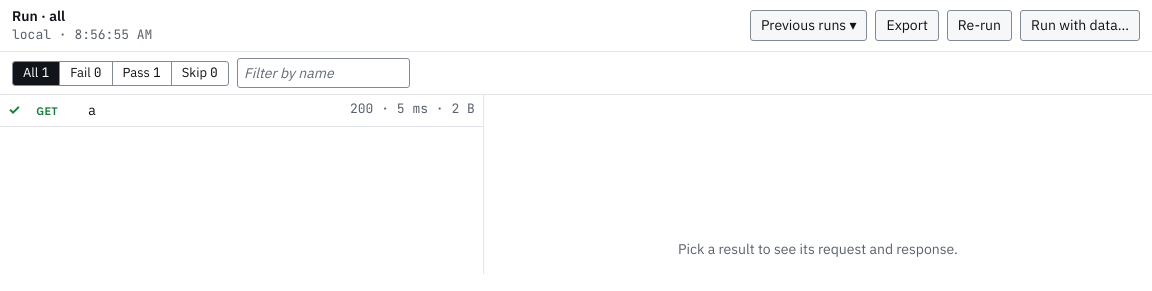
Test: Export › uses the native save dialog in the desktop app
Click the button "Export".
click(907, 26)  # box [876,10,939,41]
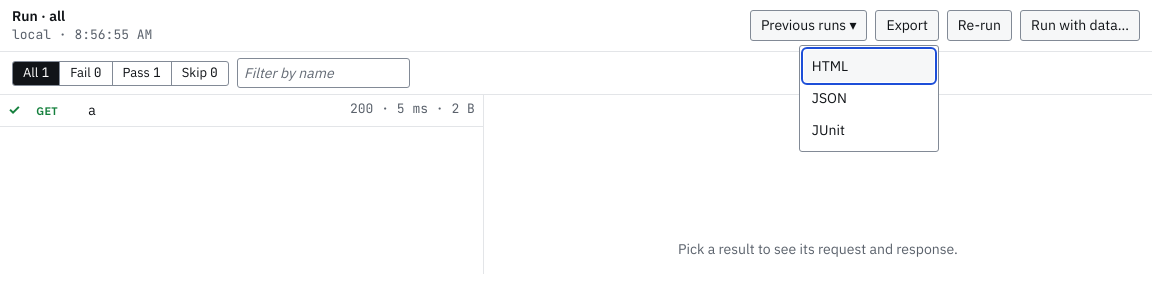
Click the menu item "HTML".
click(869, 66)  # box [804,50,934,82]
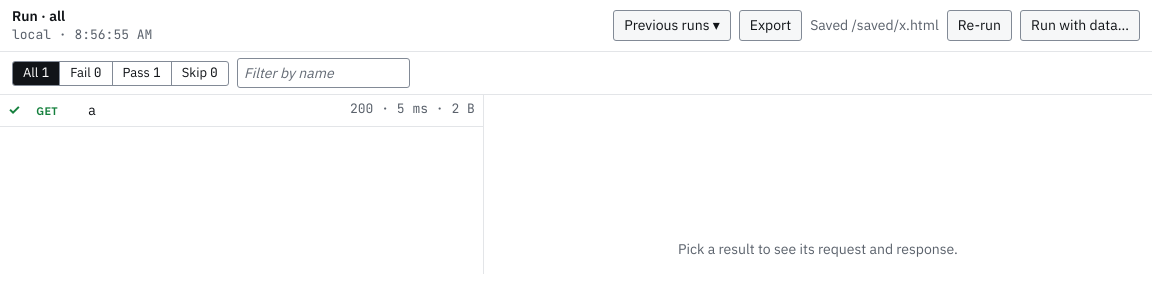
expect the message reads "Saved /saved/x.html": met, box [810,16,939,34]
